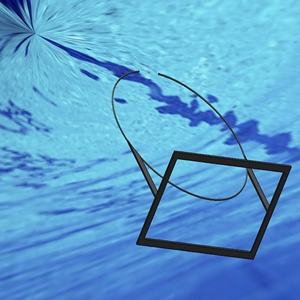circle: (108, 69, 293, 260)
